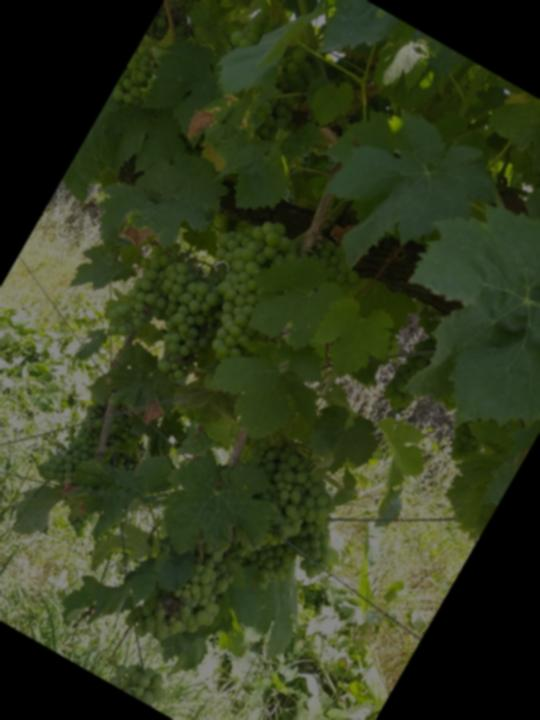grape: (163, 198, 320, 377), (200, 429, 351, 589)
